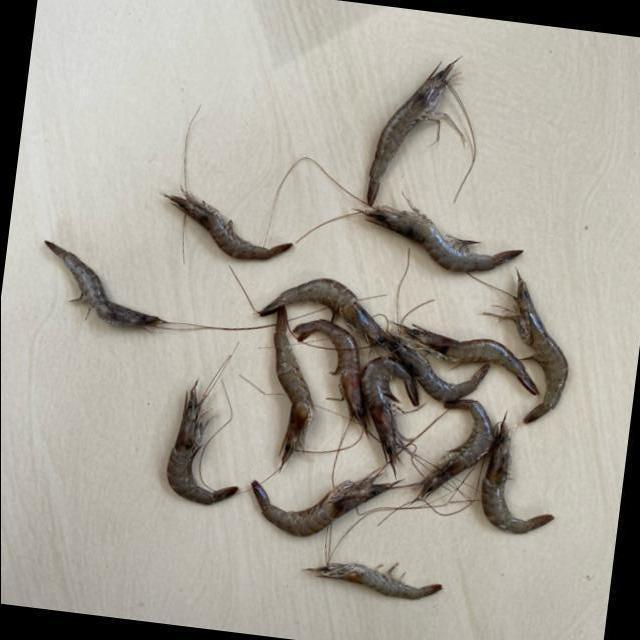shrimp: (369, 59, 456, 204), (363, 203, 523, 270), (251, 468, 399, 537), (398, 324, 539, 394), (44, 240, 160, 325), (260, 277, 392, 348), (162, 187, 292, 259), (509, 272, 569, 423), (168, 381, 237, 505), (483, 417, 554, 534), (293, 319, 367, 430), (419, 399, 494, 499), (360, 356, 418, 472), (273, 306, 314, 470), (389, 337, 490, 401), (306, 563, 442, 600)
